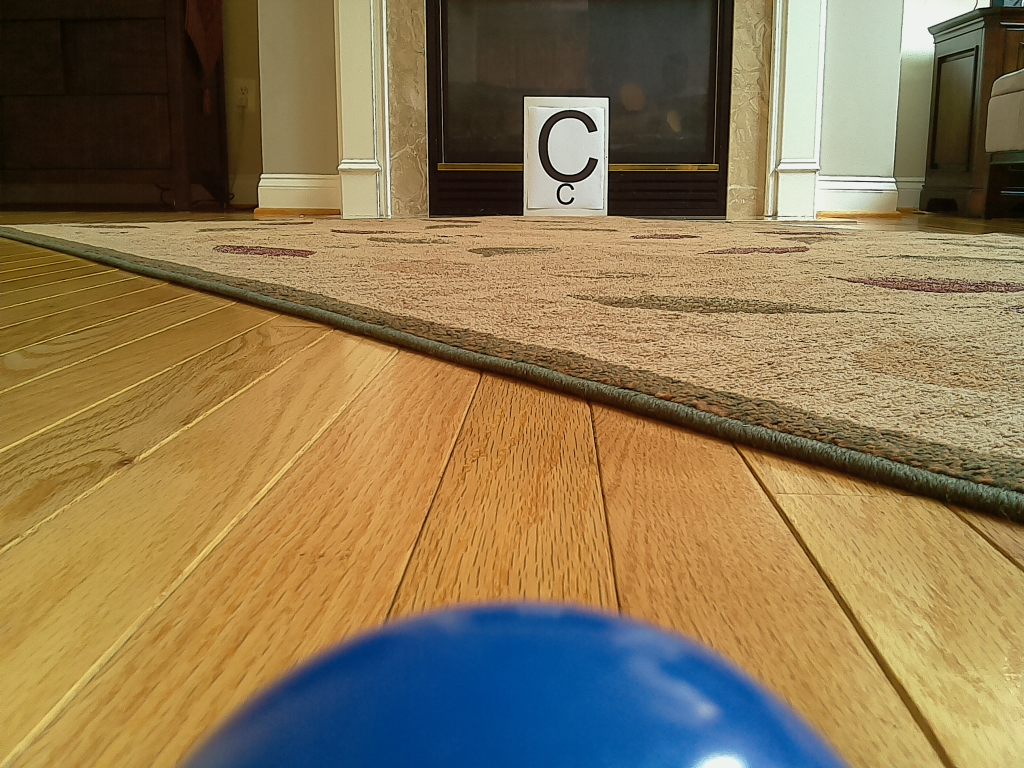letter: (537, 109, 598, 183)
